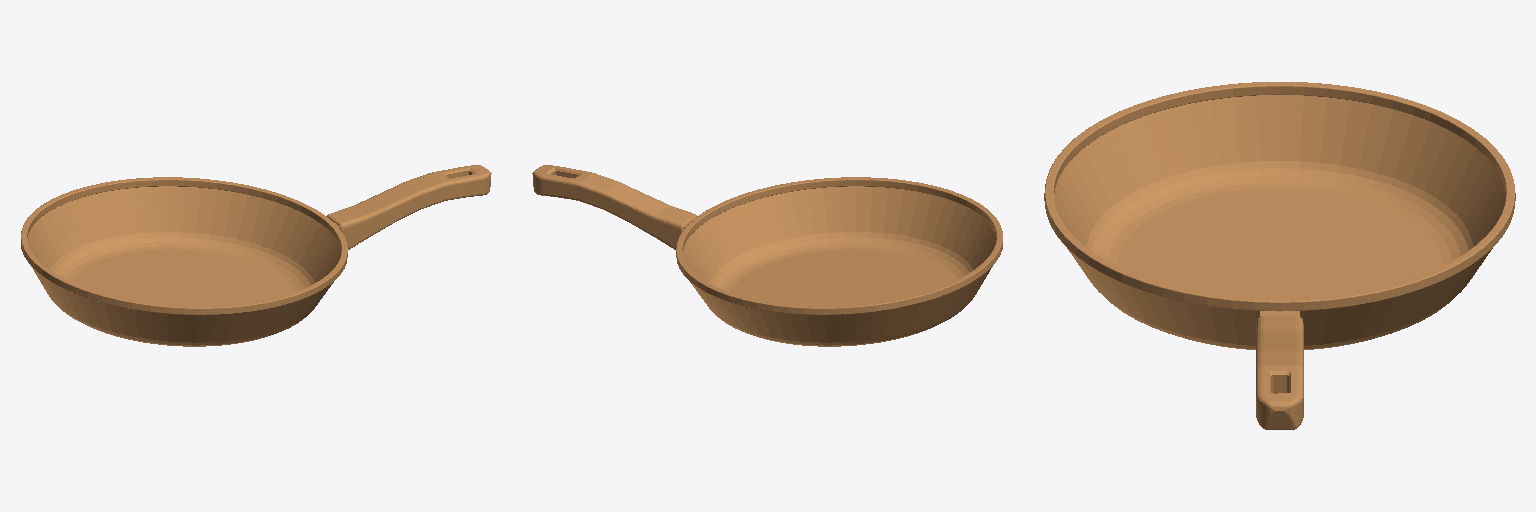
robot.urdf — pan:
<?xml version="1.0"?>
                <robot name="pan">
                <link name="base_link">
                    <visual>
                    <geometry>
                        <mesh filename="top_watertight_tiny.stl" scale="1.0 1.0 1.0"/>
                    </geometry>
                    <material name="object_material">
                        <color rgba="0.8 0.6 0.4 1.0"/>
                    </material>
                    </visual>
                    <collision>
                    <geometry>
                        <mesh filename="top_watertight_tiny.stl" scale="1.0 1.0 1.0"/>
                    </geometry>
                    </collision>
                    <inertial>
                    <mass value="1.0"/>
                    <inertia ixx="1.0" ixy="0.0" ixz="0.0" iyy="1.0" iyz="0.0" izz="1.0"/>
                    </inertial>
                </link>
                </robot>

--- What the picture shows (computed from the rendered views, not written in the file) ---
3 views of the same robot in one strip: view 1: azimuth 30°, elevation 25°; view 2: azimuth 150°, elevation 25°; view 3: azimuth 270°, elevation 25° (orthographic).
Model pan with 1 links and 0 joints (none), rooted at base_link, posed every joint at zero.
Visible links, largest first — view 1: base_link; view 2: base_link; view 3: base_link.
Boxes of the visible links, x1,y1,x2,y2 form: base_link: (21,165,491,346); base_link: (532,165,1002,346); base_link: (1044,82,1515,429).
Size in the robot's own frame: 0.236 by 0.15 by 0.0346 metres.
Meshes: 1 distinct files referenced, 1 mesh visuals loaded (1 binary STL).